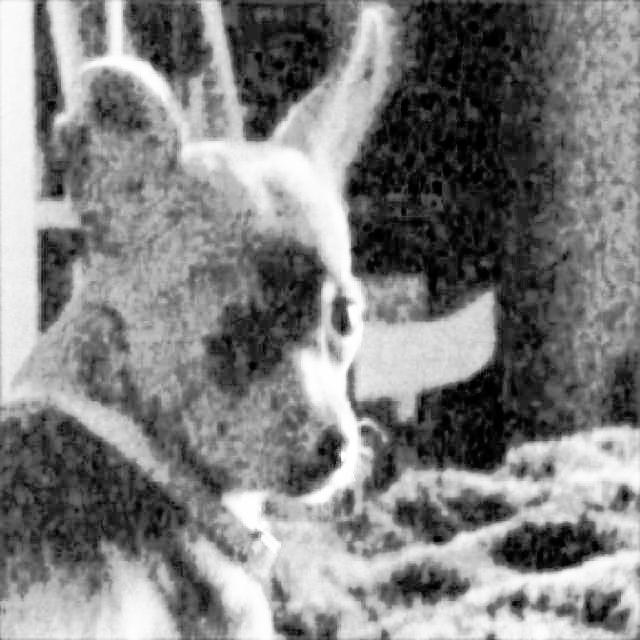Dog: (0, 0, 394, 640)
